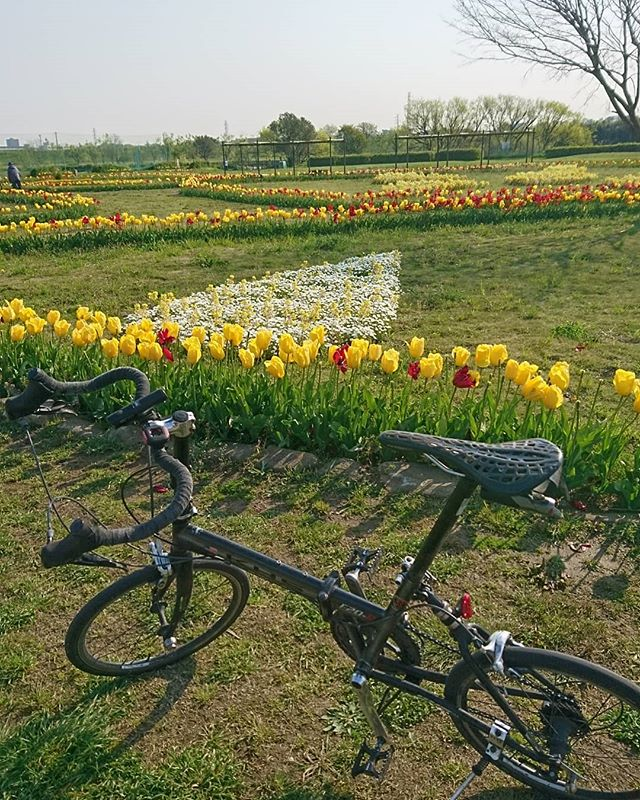bicicle: (17, 364, 640, 796)
flowers: (1, 278, 623, 461), (1, 172, 640, 243)
sky: (1, 1, 602, 138)
tree: (455, 5, 640, 125)
